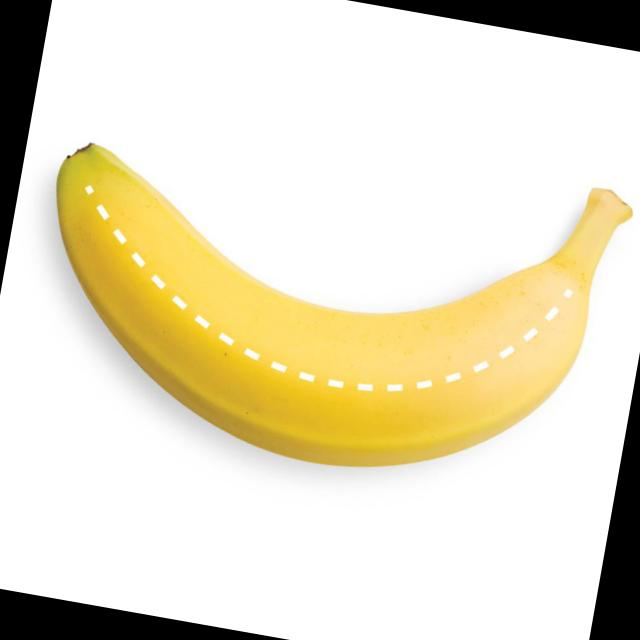banana: (4, 116, 621, 514)
